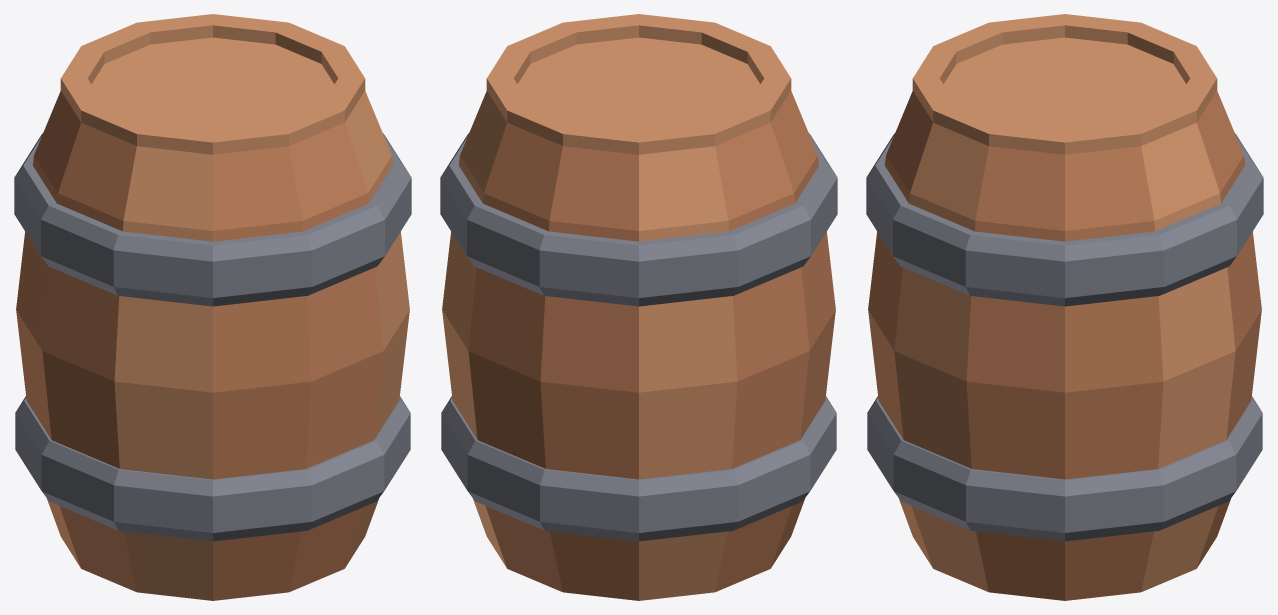
3 views of the same model, side by side, from view 1: azimuth 30°, elevation 25°; view 2: azimuth 150°, elevation 25°; view 3: azimuth 270°, elevation 25° (orthographic).
Visible parts, largest first — view 1: Twelve wooden staves, Iron hoop.001, Iron hoop, Top wooden lip; view 2: Twelve wooden staves, Iron hoop.001, Iron hoop, Top wooden lip; view 3: Twelve wooden staves, Iron hoop.001, Iron hoop, Top wooden lip.
Part boxes in pixels (x1,y1,x2,y2): Twelve wooden staves: (16, 37, 409, 600); Iron hoop.001: (14, 133, 411, 306); Iron hoop: (15, 396, 410, 541); Top wooden lip: (60, 14, 365, 154); Twelve wooden staves: (442, 37, 835, 600); Iron hoop.001: (440, 133, 837, 306); Iron hoop: (441, 396, 836, 541); Top wooden lip: (486, 14, 791, 154); Twelve wooden staves: (868, 37, 1261, 600); Iron hoop.001: (866, 133, 1263, 306); Iron hoop: (867, 396, 1262, 541); Top wooden lip: (912, 14, 1217, 154).
Size of the model in its own units: 88.8 by 113 by 88.8.
